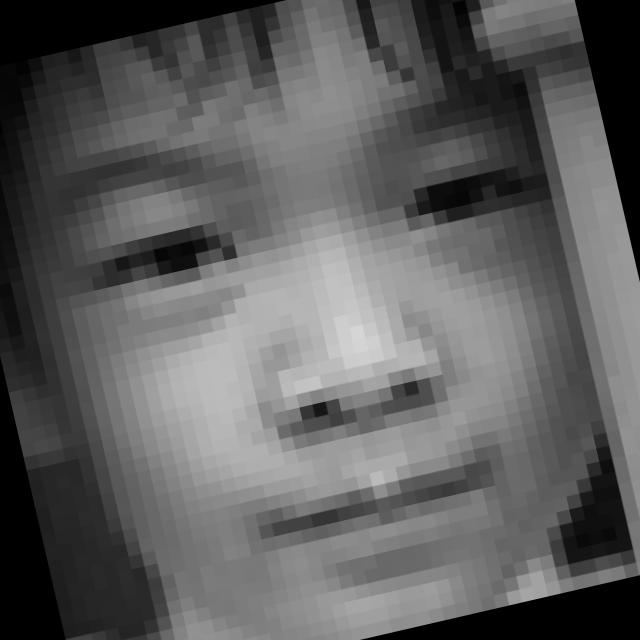neutral: (28, 55, 629, 640)
